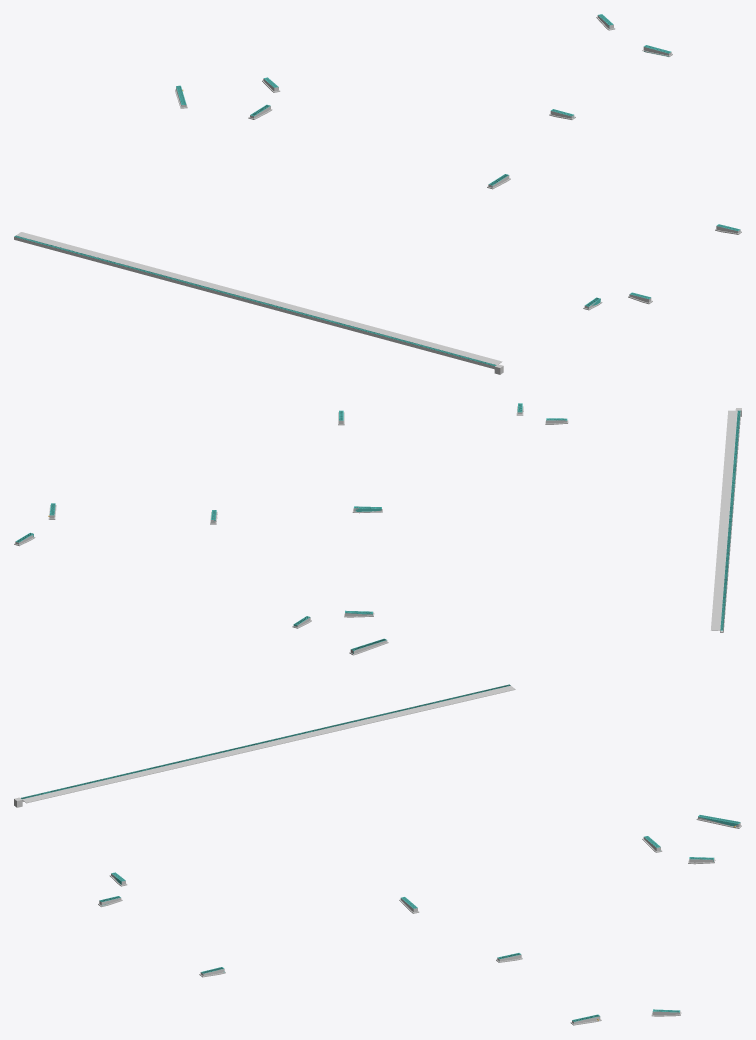
Rendered from 500125-CSSP001-780-XX-MD-ST-000211.glb.
3 views of the same model, one above another, from view 1: azimuth 30°, elevation 25°; view 2: azimuth 150°, elevation 25°; view 3: azimuth 270°, elevation 25° (orthographic). The views are drawn at different scales.
Parts seen in each view (by area): view 1: 500125-CSSP001-780-XX-MD-ST-000211#OTR011, 500125-CSSP001-780-XX-MD-ST-000211#SUM008; view 2: 500125-CSSP001-780-XX-MD-ST-000211#OTR011, 500125-CSSP001-780-XX-MD-ST-000211#SUM008; view 3: 500125-CSSP001-780-XX-MD-ST-000211#OTR011, 500125-CSSP001-780-XX-MD-ST-000211#SUM008.
Part boxes in pixels (left/top/right/bottom): 500125-CSSP001-780-XX-MD-ST-000211#OTR011: left=14, top=232, right=503, bottom=374; 500125-CSSP001-780-XX-MD-ST-000211#SUM008: left=14, top=235, right=496, bottom=366; 500125-CSSP001-780-XX-MD-ST-000211#OTR011: left=711, top=408, right=741, bottom=632; 500125-CSSP001-780-XX-MD-ST-000211#SUM008: left=720, top=410, right=740, bottom=630; 500125-CSSP001-780-XX-MD-ST-000211#OTR011: left=14, top=684, right=515, bottom=807; 500125-CSSP001-780-XX-MD-ST-000211#SUM008: left=21, top=684, right=510, bottom=799.
Size of the model in its own units: 159 by 4.91 by 148.
